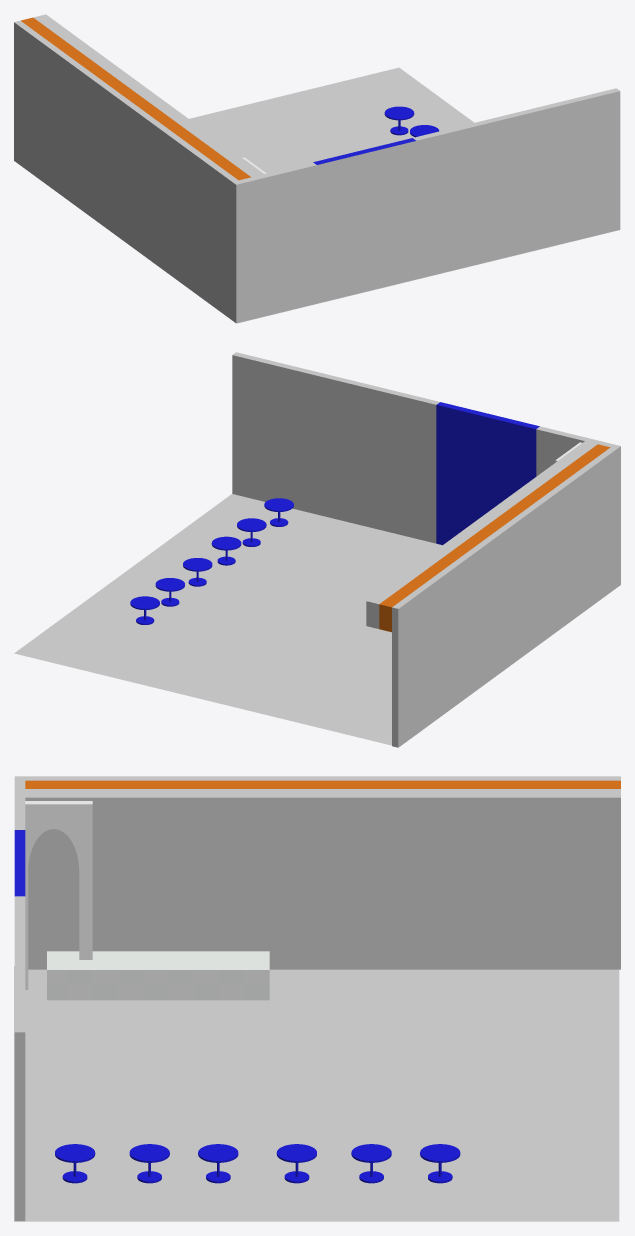
The model's file is slb_internal 2.glb.
3 views of the same model, one above another, from view 1: azimuth 30°, elevation 25°; view 2: azimuth 150°, elevation 25°; view 3: azimuth 270°, elevation 25° (orthographic). The views are drawn at different scales.
Parts seen in each view (by area): view 1: 立方体, 平面, 桌子3.001; view 2: 立方体, 平面; view 3: 平面, 立方体, 立方体.001, 圆环, 桌子1, 桌子1.001, 桌子3.001, 桌子2, 桌子3, 桌子2.001.
Part boxes in pixels (x1,y1,x2,y2): 立方体: (14, 14, 620, 323); 平面: (189, 67, 620, 323); 桌子3.001: (384, 106, 414, 135); 立方体: (232, 352, 620, 747); 平面: (14, 494, 442, 745); 平面: (14, 966, 619, 1221); 立方体: (14, 776, 620, 1221); 立方体.001: (47, 951, 269, 1000); 圆环: (25, 801, 92, 989); 桌子1: (55, 1144, 95, 1183); 桌子1.001: (276, 1144, 316, 1183); 桌子3.001: (420, 1144, 460, 1183); 桌子2: (129, 1144, 169, 1183); 桌子3: (198, 1144, 238, 1183); 桌子2.001: (351, 1144, 391, 1183).
Bounding box in the file's own units: 30.03 × 10.35 × 30.09.
